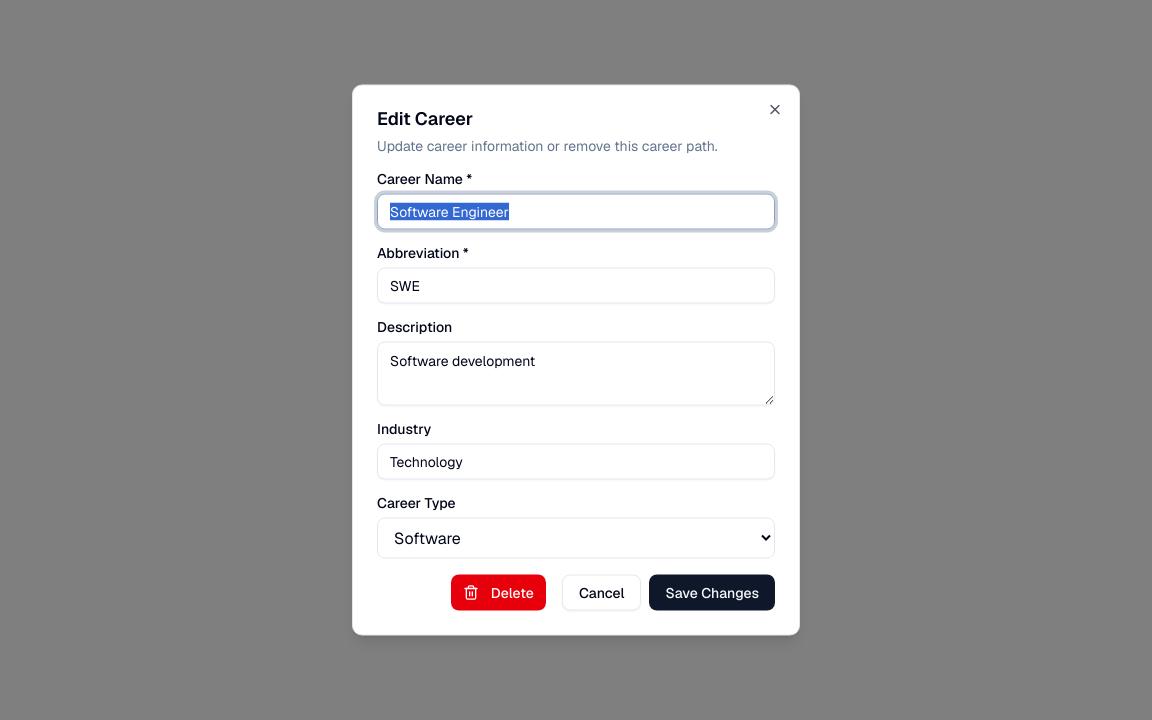
Test: CareerEditPopup › handles delete errors
Click the button "Delete".
click(498, 592)  # box x1=451 y1=574 x2=546 y2=610
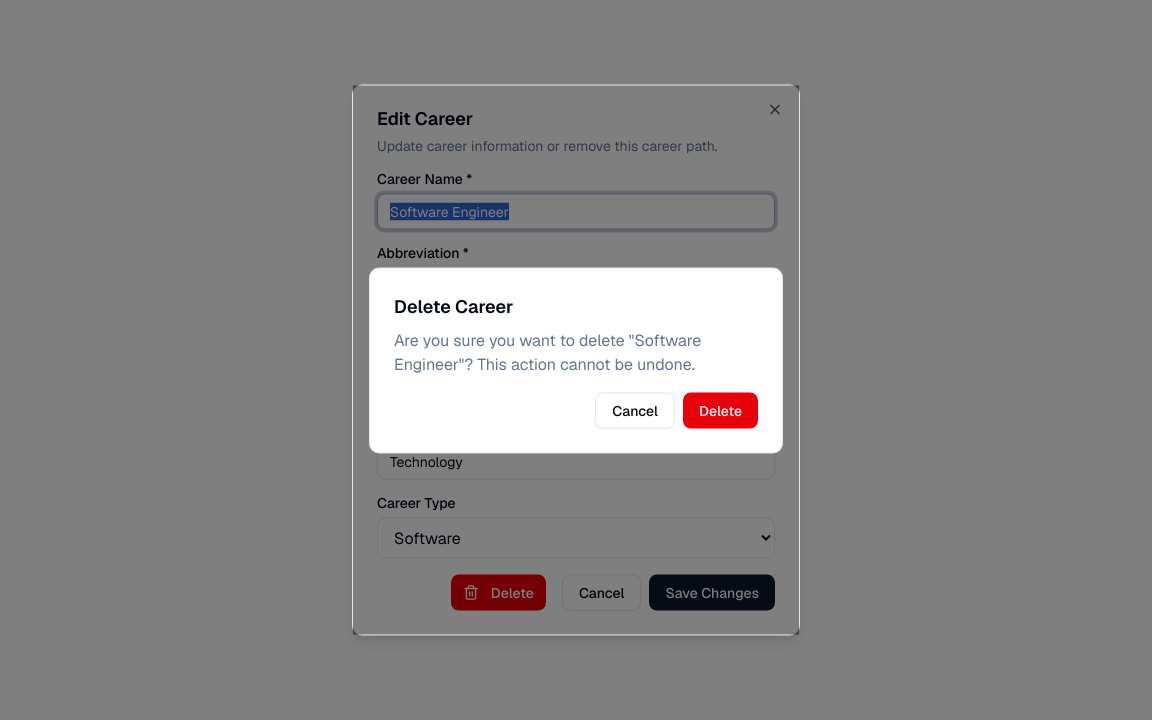
Click the button "Delete".
click(720, 410)  # box x1=683 y1=392 x2=758 y2=428
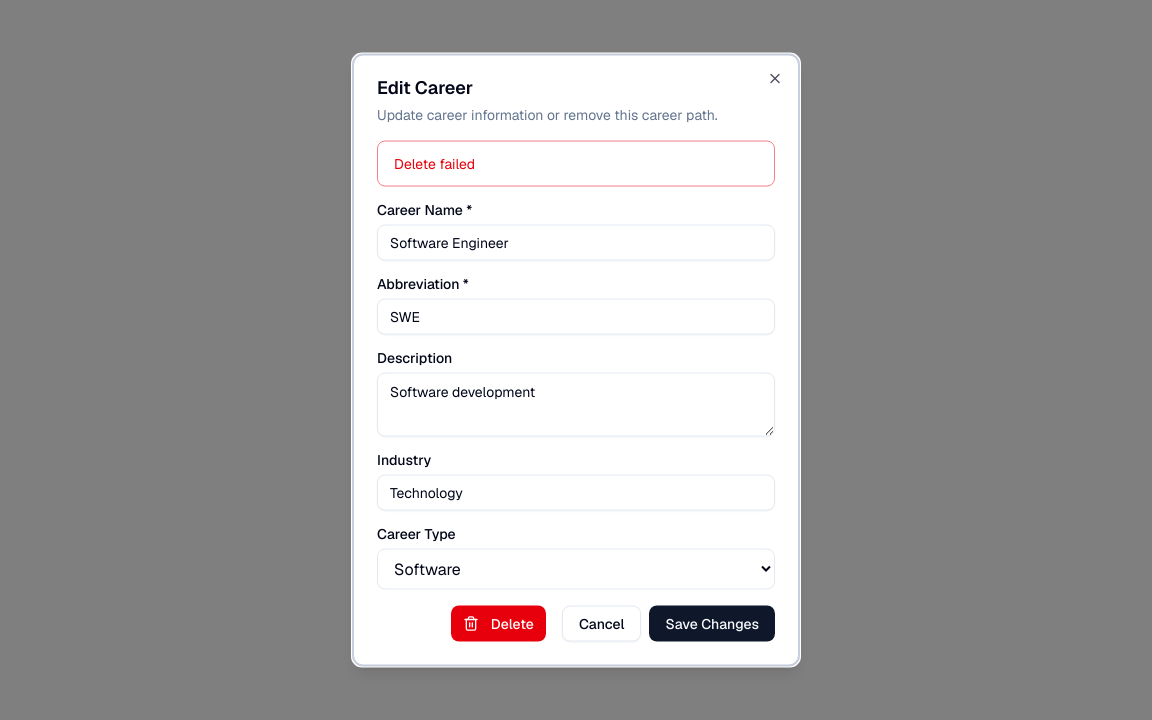
Expected: the text "Delete failed" is shown, x1=394 y1=154 x2=475 y2=172
